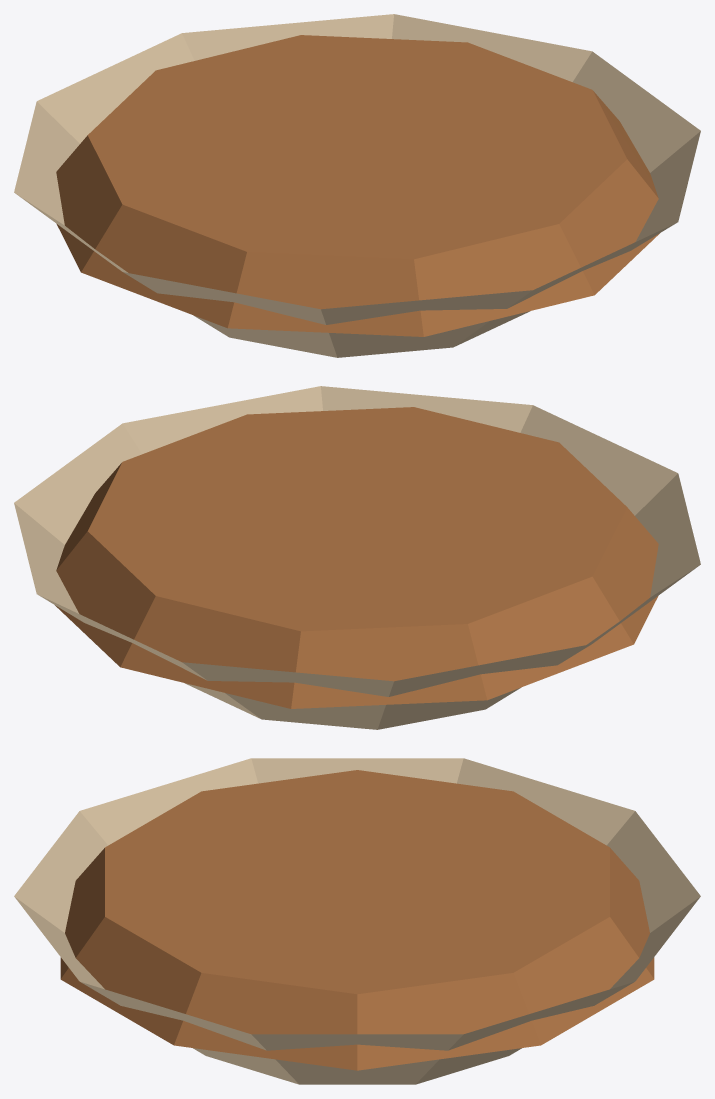
File: meal_simple.obj
3 views of the same model, one above another, from view 1: azimuth 30°, elevation 25°; view 2: azimuth 150°, elevation 25°; view 3: azimuth 270°, elevation 25° (orthographic). The views are drawn at different scales.
Visible parts, largest first — view 1: meal_simple; view 2: meal_simple; view 3: meal_simple.
Boxes of the visible parts, x1,y1,x2,y2 form: meal_simple: (14, 14, 700, 357); meal_simple: (14, 386, 700, 729); meal_simple: (14, 758, 700, 1084).
Bounding box in the file's own units: 0.4184 × 0.09 × 0.44.
